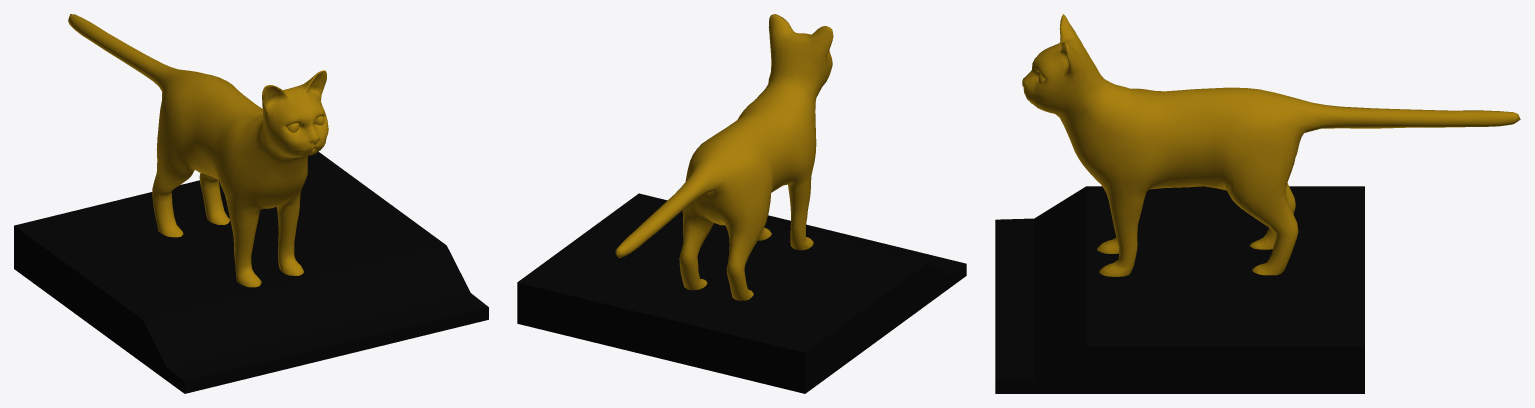
3 renders of one model, left to right at view 1: azimuth 30°, elevation 25°; view 2: azimuth 150°, elevation 25°; view 3: azimuth 270°, elevation 25°, orthographic. The views are drawn at different scales.
Visible parts, largest first — view 1: base.015, cat.001, base.016; view 2: base.015, cat.001, base.016; view 3: base.016, base.015, cat.001.
Boxes of the visible parts, x1=… form: base.015: x1=14, y1=156, x2=480, y2=393; cat.001: x1=68, y1=14, x2=328, y2=287; base.016: x1=82, y1=151, x2=488, y2=391; base.015: x1=525, y1=195, x2=966, y2=393; cat.001: x1=615, y1=14, x2=833, y2=300; base.016: x1=517, y1=193, x2=796, y2=387; base.016: x1=995, y1=191, x2=1364, y2=393; base.015: x1=995, y1=186, x2=1364, y2=375; cat.001: x1=1022, y1=14, x2=1520, y2=276.
Size of the model in its own units: 82.19 by 66.71 by 114.
